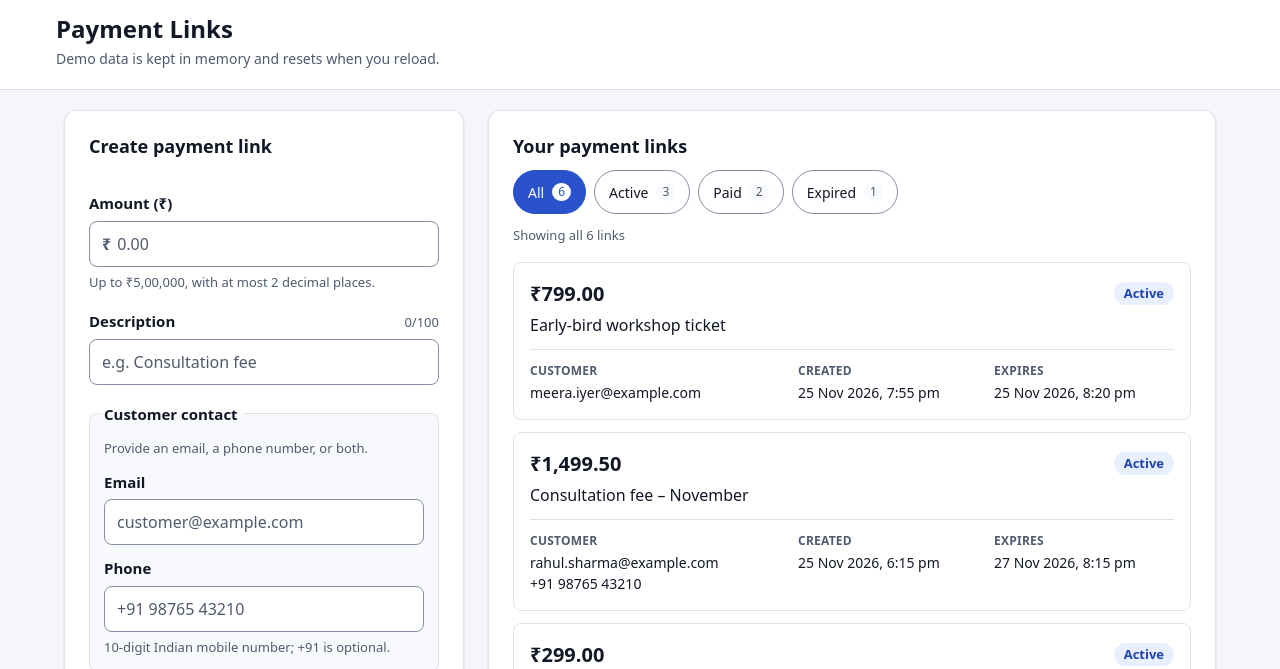
Test case: Create payment link form › switches back to All if a new link would be hidden by the current filter
The width and height of the screenshot is (1280, 669).
Click the button "Paid 2".
click(741, 192)  # box [698,170,784,214]
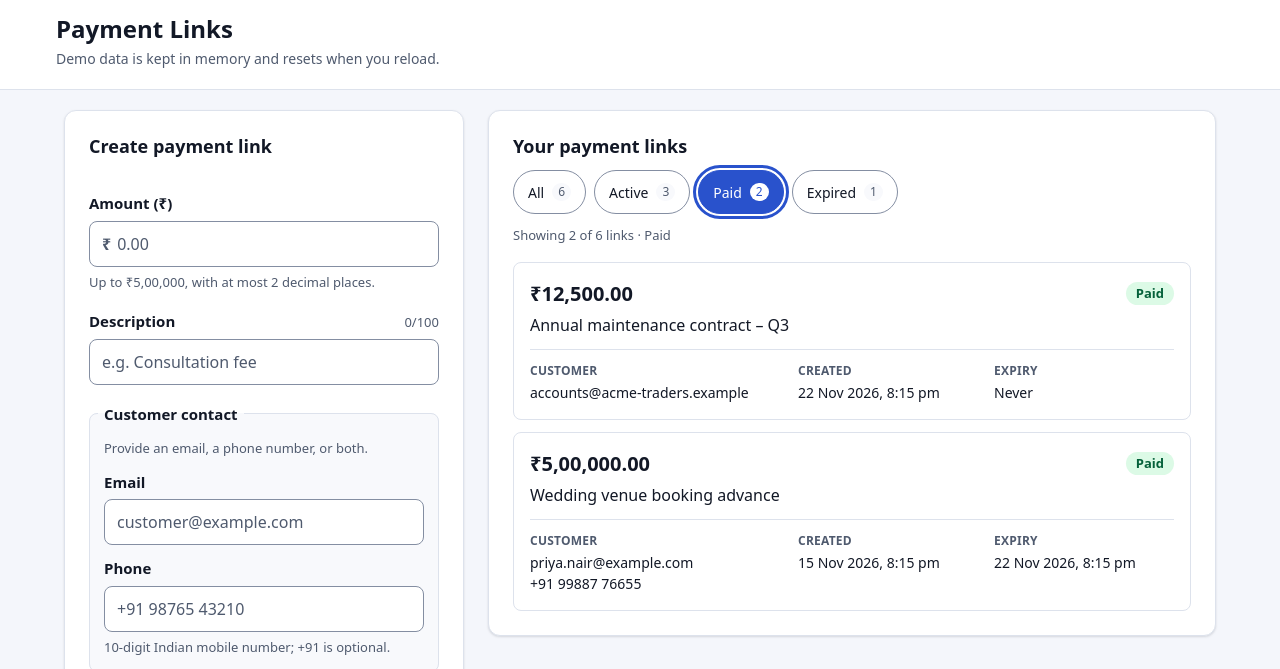
Type "100" into the field labelled "Amount (₹)".
click(275, 244); type("100")  # box [111,222,438,266]
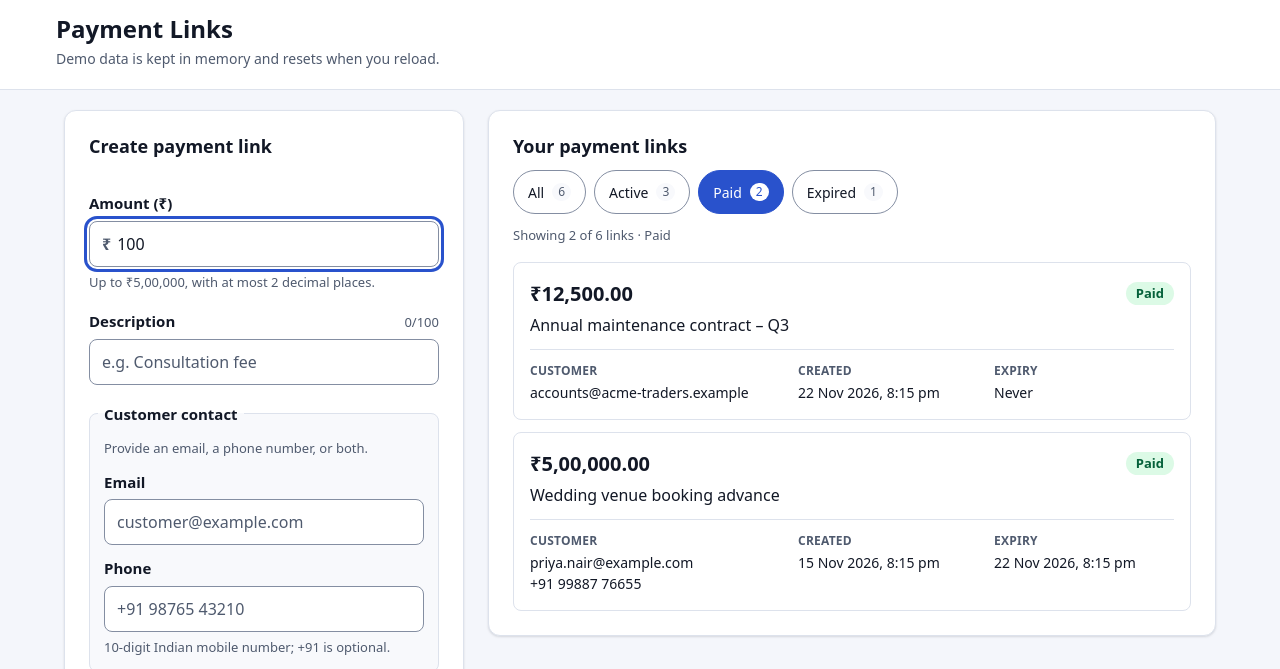
Type "Hidden otherwise" into the field labelled "Description".
click(264, 362); type("Hidden otherwise")  # box [89,339,439,385]
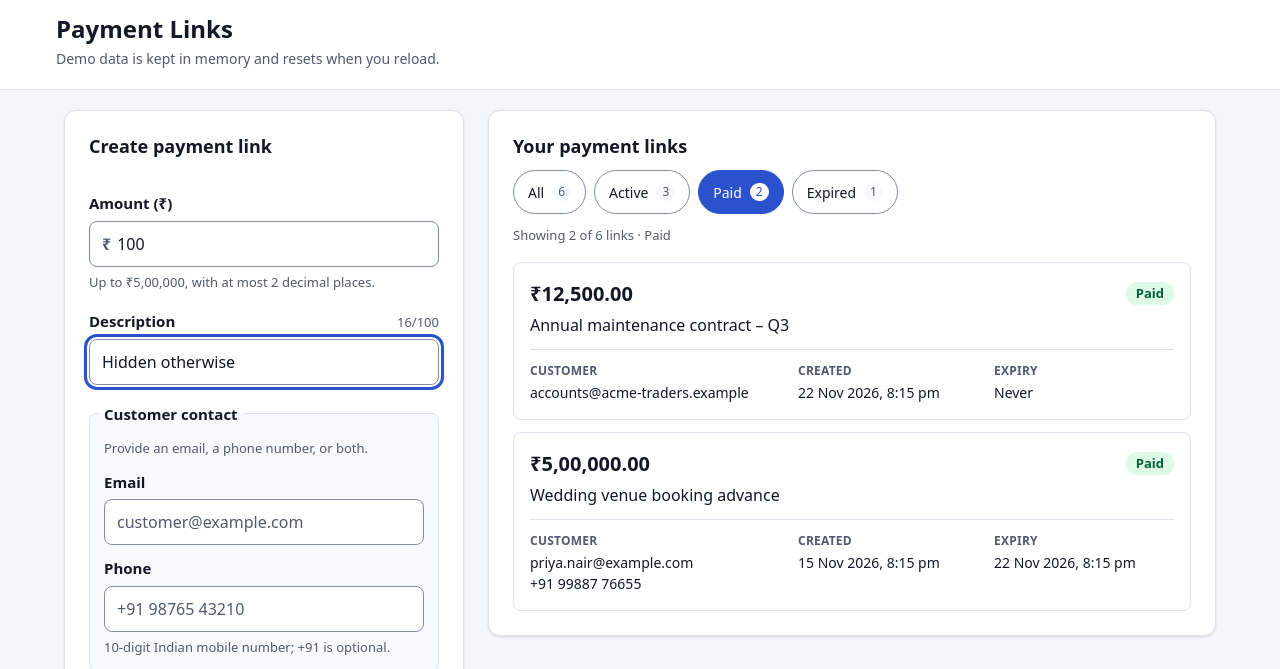
Type "x@y.in" into the field labelled "Email".
click(264, 522); type("x@y.in")  # box [104,499,424,545]
(page scrolled)
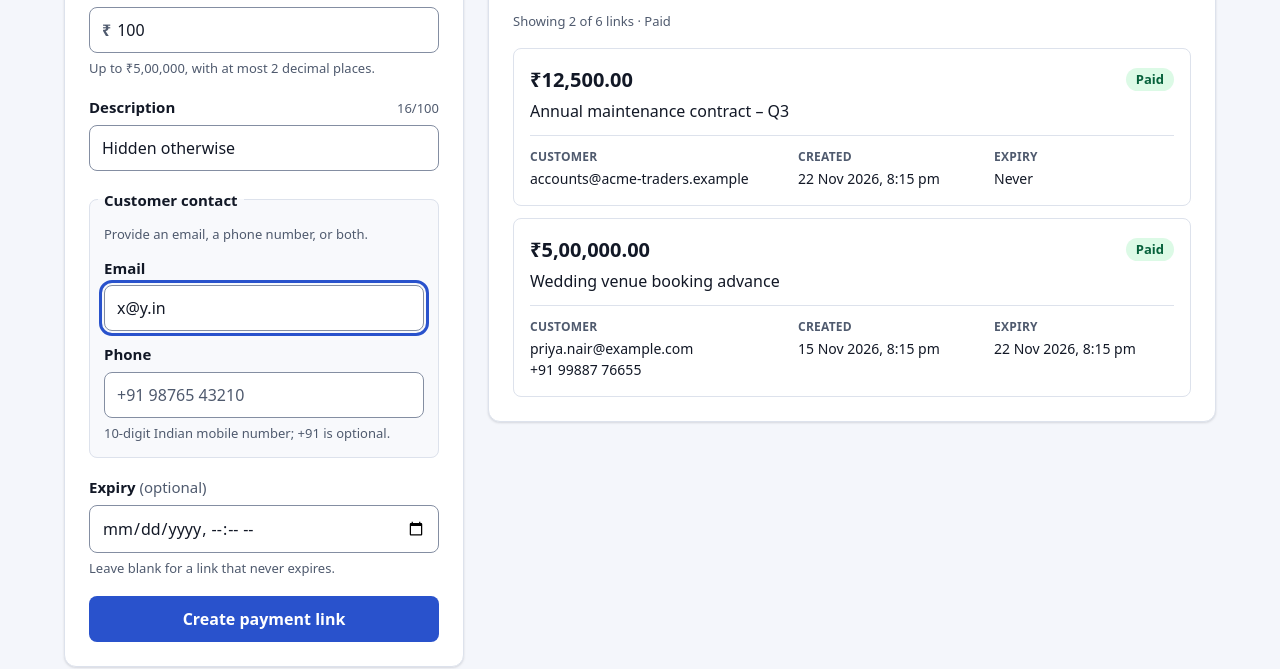
Click the button "Create payment link".
click(264, 619)  # box [89,596,439,642]
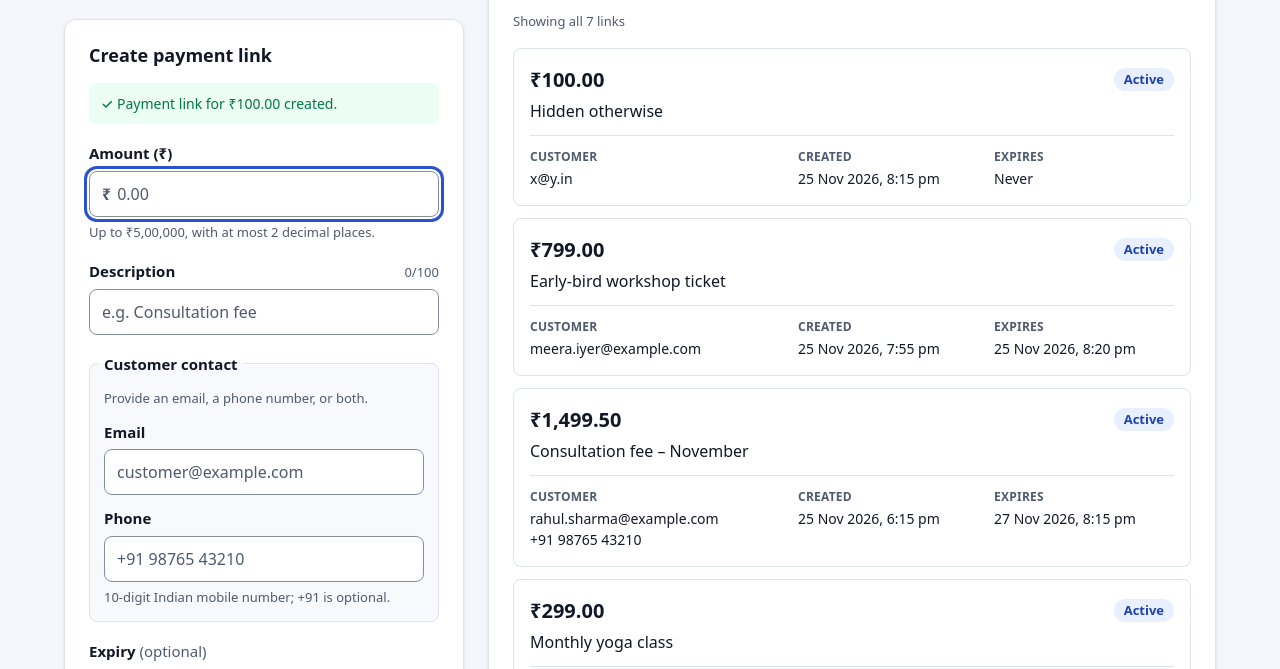
Expected: the list item "Hidden otherwise" is shown, [530,100,663,122]
